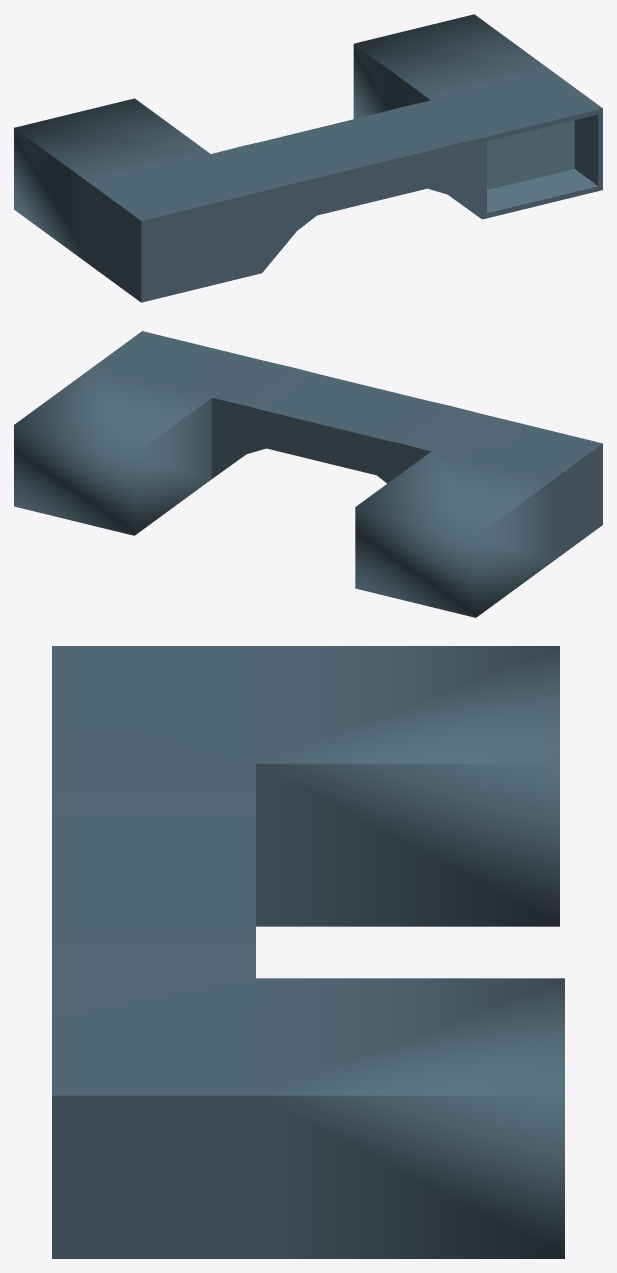
Rendered from TopShelf.fbx.
3 renders of one model, top to bottom at view 1: azimuth 30°, elevation 25°; view 2: azimuth 150°, elevation 25°; view 3: azimuth 270°, elevation 25°, orthographic. The views are drawn at different scales.
Visible parts, largest first — view 1: polySurface31; view 2: polySurface31; view 3: polySurface31.
Part boxes in pixels (x1,y1,x2,y2): polySurface31: [14, 14, 602, 302]; polySurface31: [14, 331, 602, 617]; polySurface31: [52, 646, 564, 1258].
Bounding box in the file's own units: 11.56 × 1.96 × 5.57.
